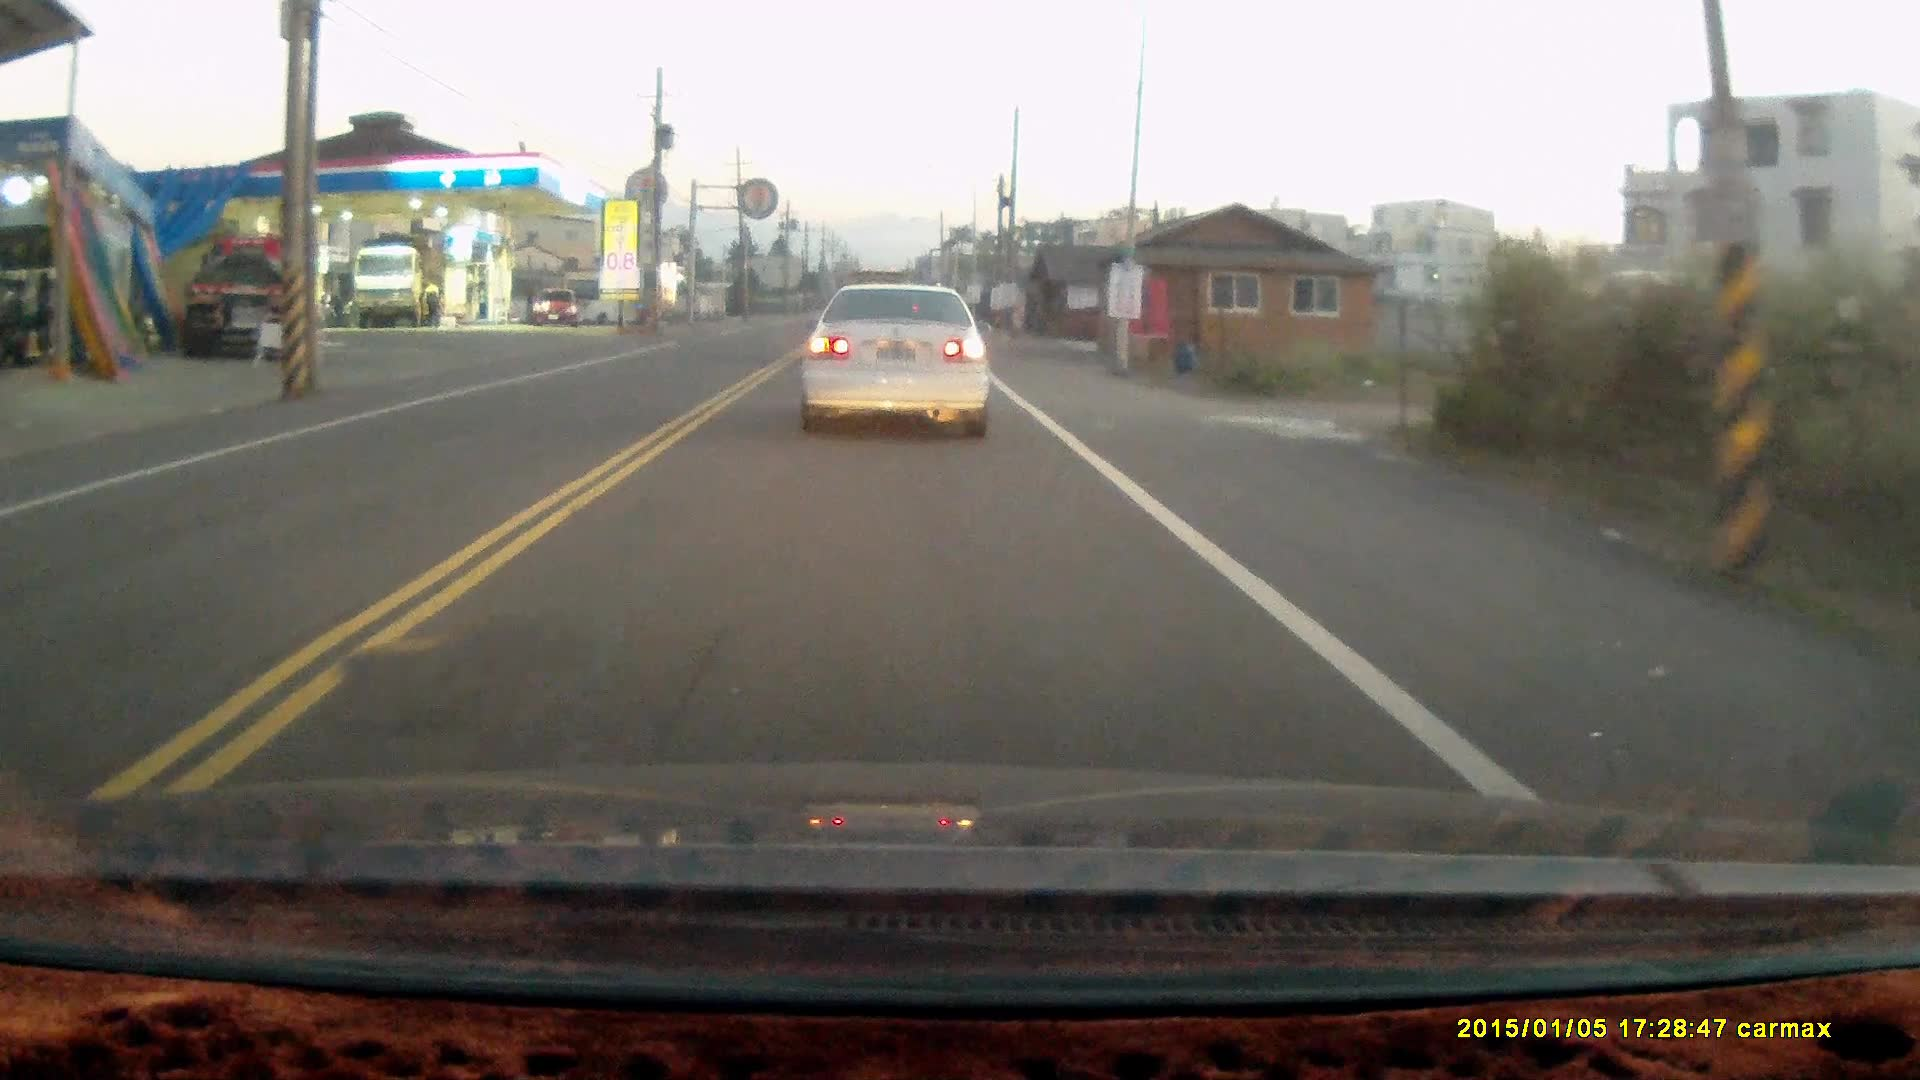pedestrian: (420, 274, 442, 325)
vehicle: (795, 279, 996, 446), (176, 236, 296, 362), (353, 246, 439, 334), (533, 288, 578, 327)
